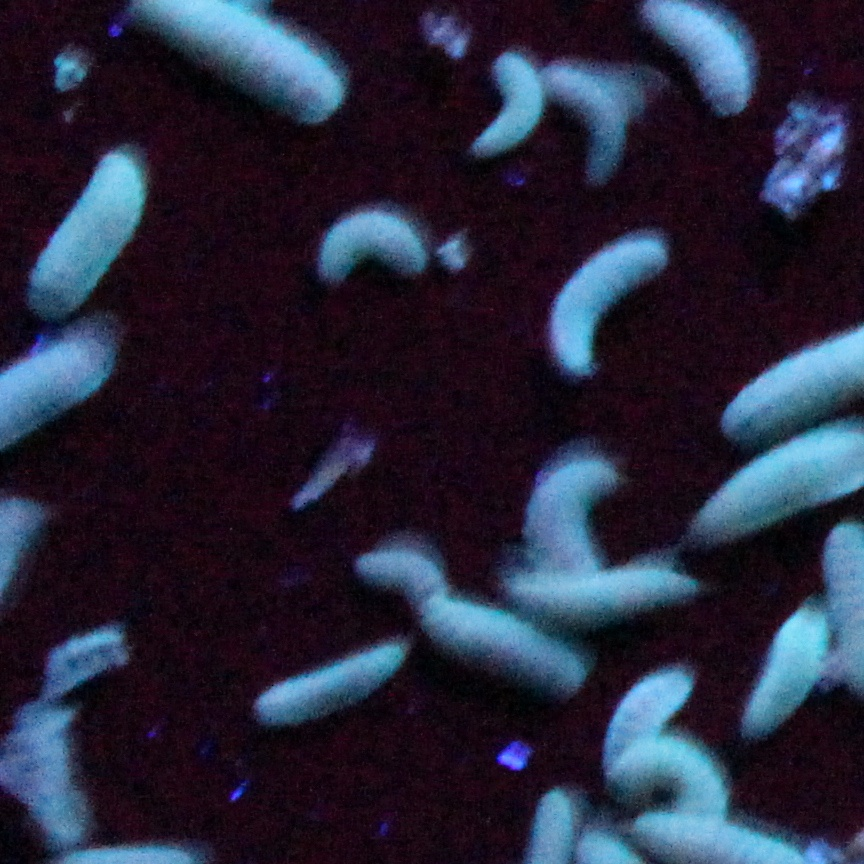larve: (30, 153, 144, 309), (553, 238, 666, 374), (419, 602, 585, 693), (253, 643, 403, 725), (526, 461, 616, 576), (745, 607, 824, 732), (539, 67, 622, 177), (613, 741, 726, 812), (319, 212, 427, 283), (502, 572, 693, 609), (476, 51, 542, 156), (605, 671, 691, 749), (357, 549, 446, 599)
